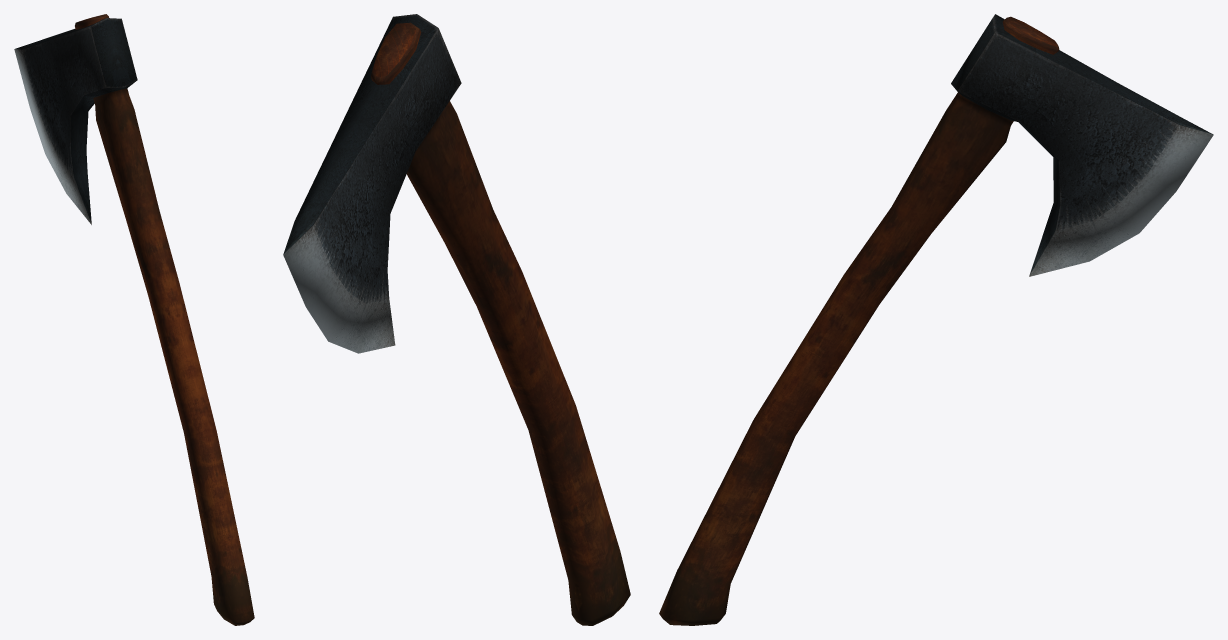
Rendered from axe.glb.
3 renders of one model, left to right at view 1: azimuth 30°, elevation 25°; view 2: azimuth 150°, elevation 25°; view 3: azimuth 270°, elevation 25°, orthographic. The views are drawn at different scales.
Visible parts, largest first — view 1: Quake Woodcutting Axe; view 2: Quake Woodcutting Axe; view 3: Quake Woodcutting Axe.
Part boxes in pixels (<box>): Quake Woodcutting Axe: <box>14,14,254,625</box>; Quake Woodcutting Axe: <box>283,14,630,625</box>; Quake Woodcutting Axe: <box>659,14,1213,625</box>.
Bounding box in the file's own units: 0.0489 × 0.7497 × 0.6245.
Materials: 1 (1 with a texture image).
